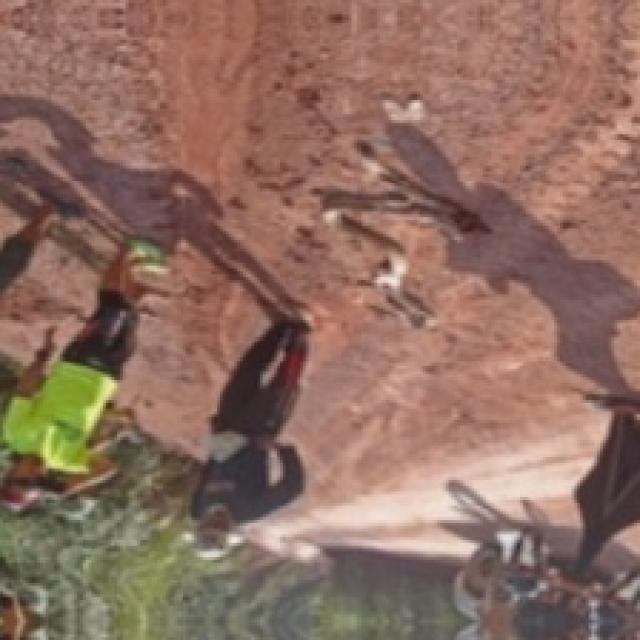king cobra: (316, 140, 485, 327)
